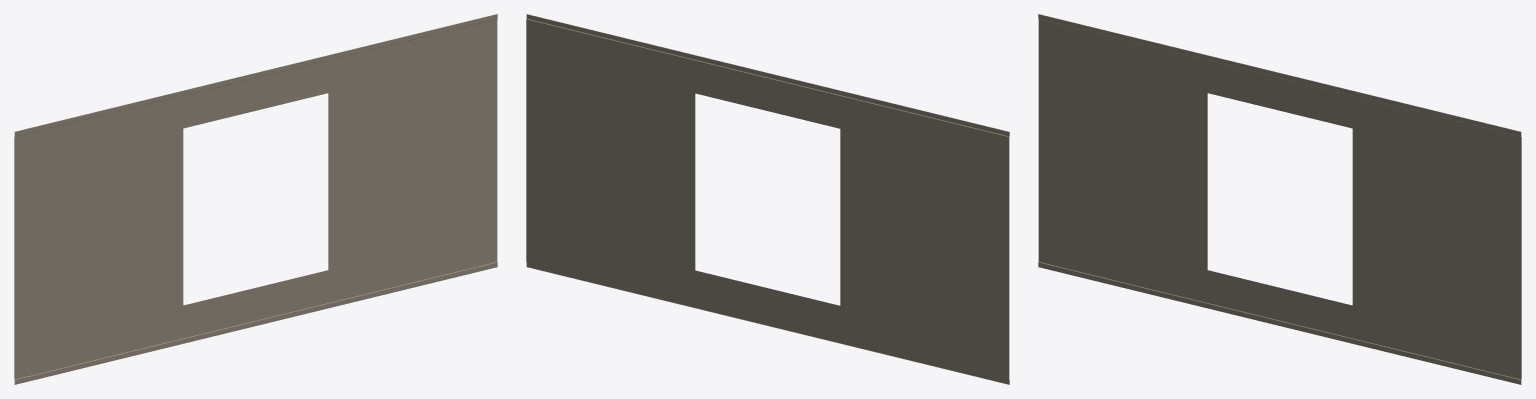
Rendered from Wall_10x5_SingleWindow_NonUniformSize.fbx.
The picture shows the model from 3 angles, left to right: view 1: azimuth 30°, elevation 25°; view 2: azimuth 150°, elevation 25°; view 3: azimuth 330°, elevation 25°; orthographic projection.
Parts seen in each view (by area): view 1: Wall_10x5_SingleWindow_NonUniformSize; view 2: Wall_10x5_SingleWindow_NonUniformSize; view 3: Wall_10x5_SingleWindow_NonUniformSize.
Part boxes in pixels (<box>): Wall_10x5_SingleWindow_NonUniformSize: <box>14,14,497,384</box>; Wall_10x5_SingleWindow_NonUniformSize: <box>526,14,1009,384</box>; Wall_10x5_SingleWindow_NonUniformSize: <box>1038,14,1521,384</box>.
Bounding box in the file's own units: 10 × 5 × 0.015.
